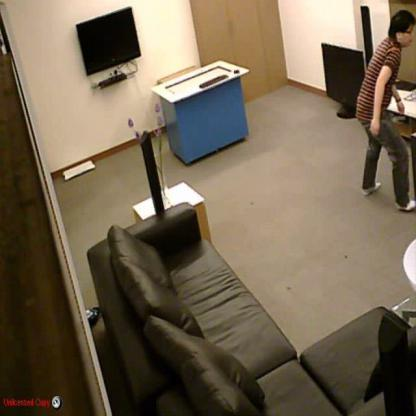Person: (358, 10, 415, 209)
